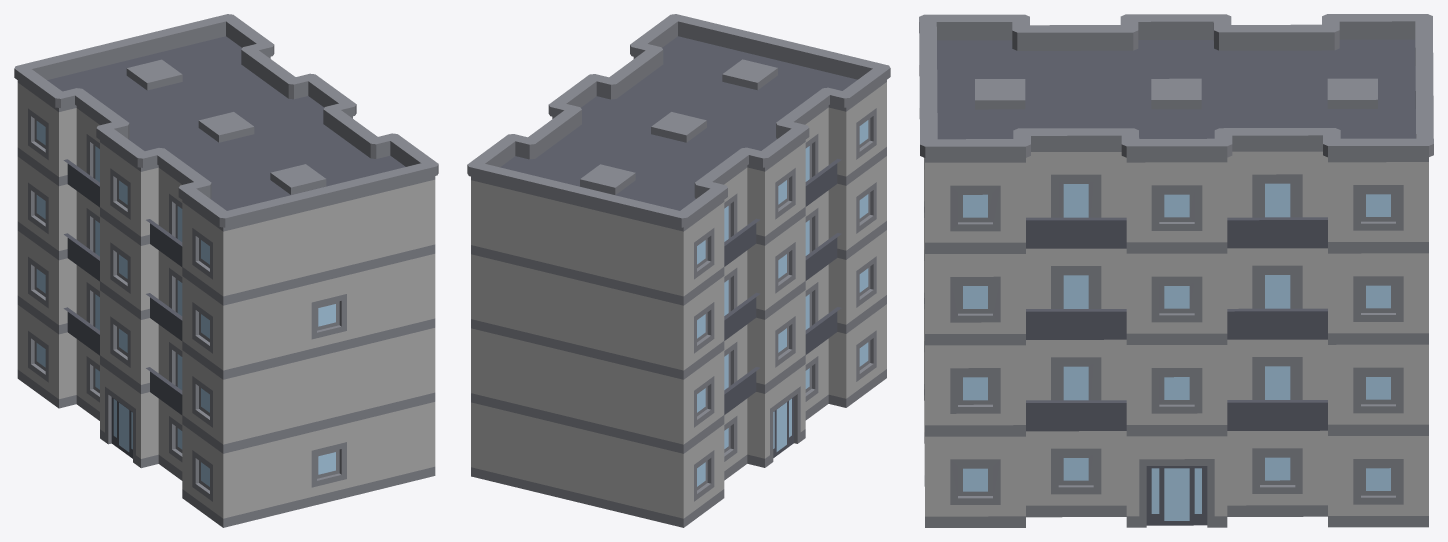
Rendered from large_buildingA.obj.
The picture shows the model from 3 angles, left to right: view 1: azimuth 30°, elevation 25°; view 2: azimuth 150°, elevation 25°; view 3: azimuth 270°, elevation 25°; orthographic projection. The views are drawn at different scales.
Visible parts, largest first — view 1: large_buildingA; view 2: large_buildingA; view 3: large_buildingA.
Part boxes in pixels (x1,y1,x2,y2): large_buildingA: (14,14,438,527); large_buildingA: (467,14,890,527); large_buildingA: (919,14,1433,527).
Size of the model in its own units: 22.76 by 30.67 by 37.31.
